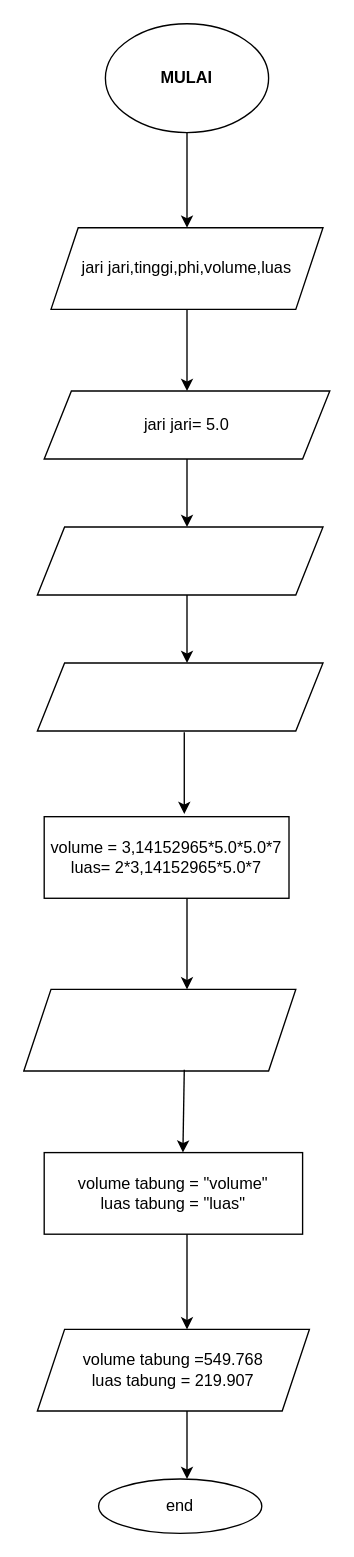
The diagram is 354 pixels wide and 1557 high, and some of its shapes have lost their labels. The shapes that lost their labels are listed below. From the top down, each one's centre as x and y in pixels, then its label:
point (179, 560): tinggi = 7
point (179, 696): phi = 3,14152965
point (159, 1029): volume tabung,luas tabung
